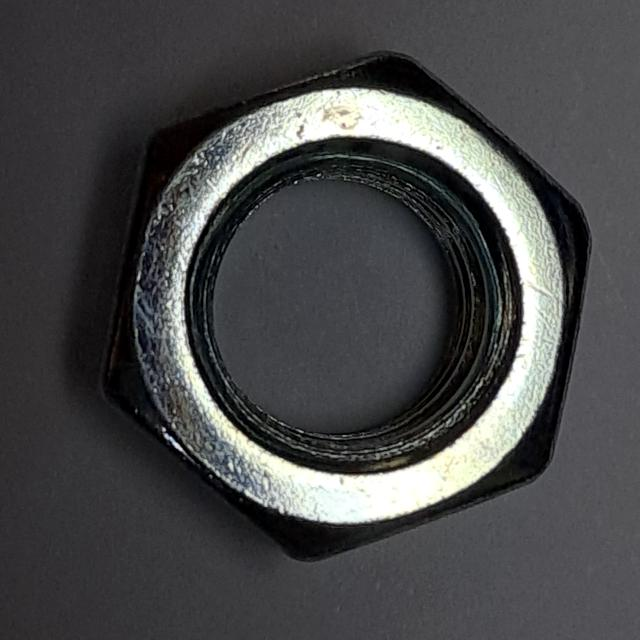Excellent: (81, 36, 605, 578)
